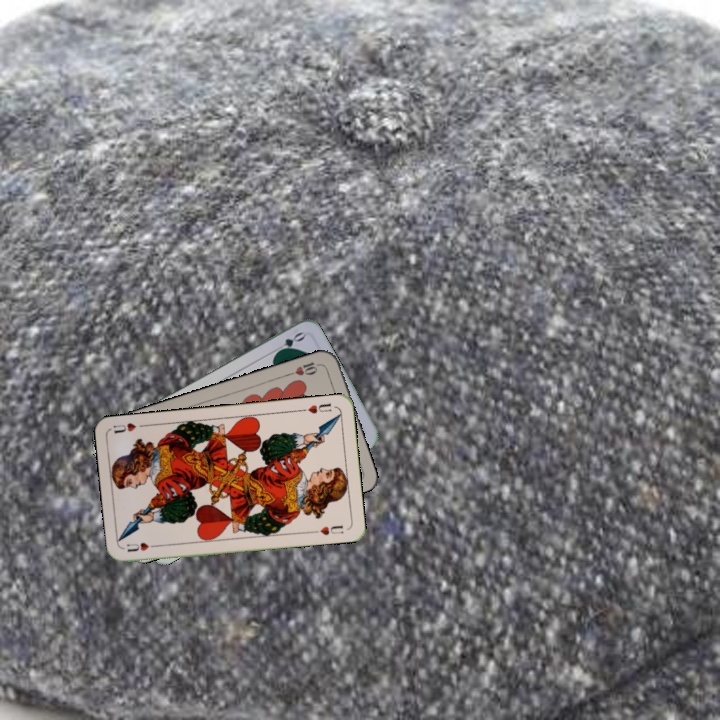GO: (269, 328, 307, 358)
H10: (285, 358, 324, 378)
HU: (297, 399, 334, 416), (123, 538, 161, 554)
